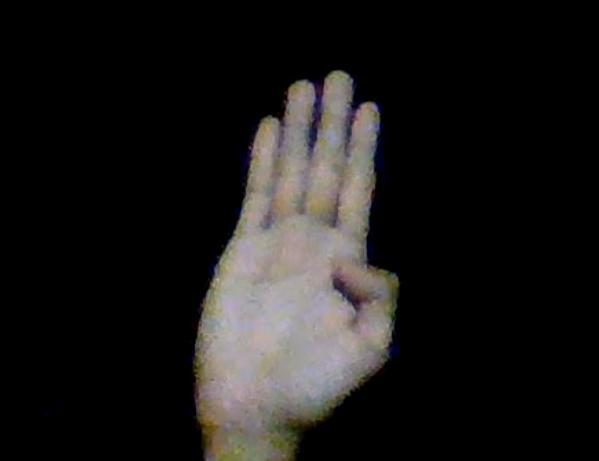b: (194, 67, 399, 432)
